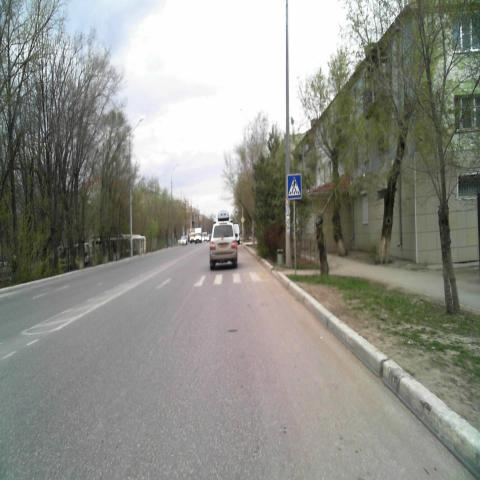5_19_1: (286, 174, 302, 200)
